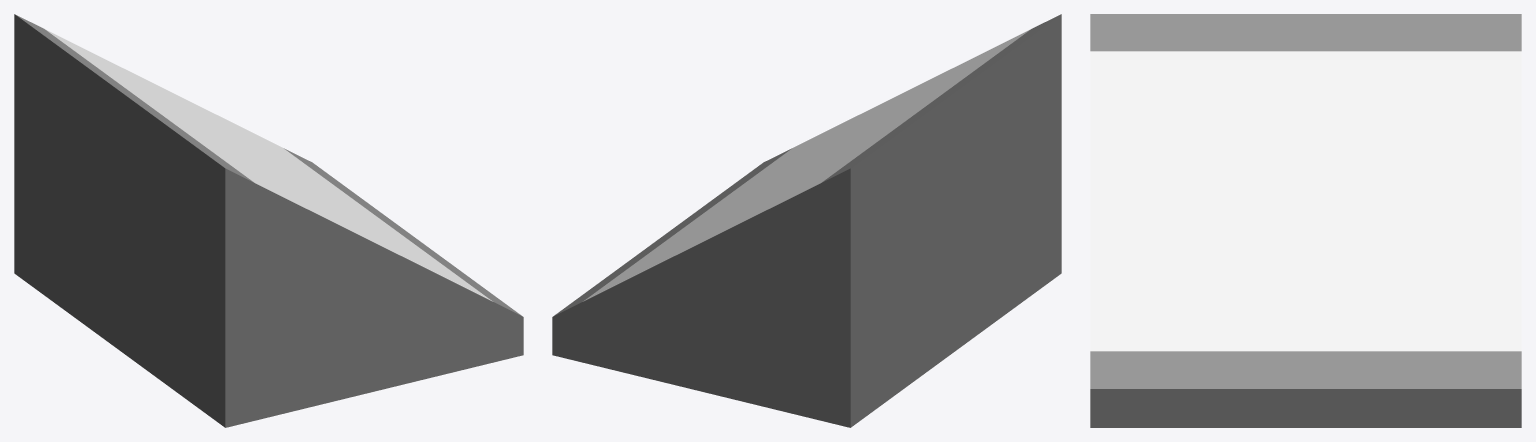
File: tiltedchunk.fbx
3 views of the same model, side by side, from view 1: azimuth 30°, elevation 25°; view 2: azimuth 150°, elevation 25°; view 3: azimuth 270°, elevation 25° (orthographic). The views are drawn at different scales.
Visible parts, largest first — view 1: tiltedchunk; view 2: tiltedchunk; view 3: tiltedchunk.
Part boxes in pixels (bbox=[...]): tiltedchunk: bbox=[14, 14, 523, 427]; tiltedchunk: bbox=[552, 14, 1061, 427]; tiltedchunk: bbox=[1090, 14, 1521, 427].
Size of the model in its own units: 40.78 by 50 by 33.93.
